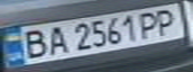1: (118, 11, 142, 42)
2: (69, 19, 93, 52)
5: (90, 17, 109, 48)
6: (106, 15, 127, 45)
A: (42, 24, 69, 56)
B: (15, 27, 51, 60)
P: (133, 9, 163, 38), (151, 7, 181, 36)
